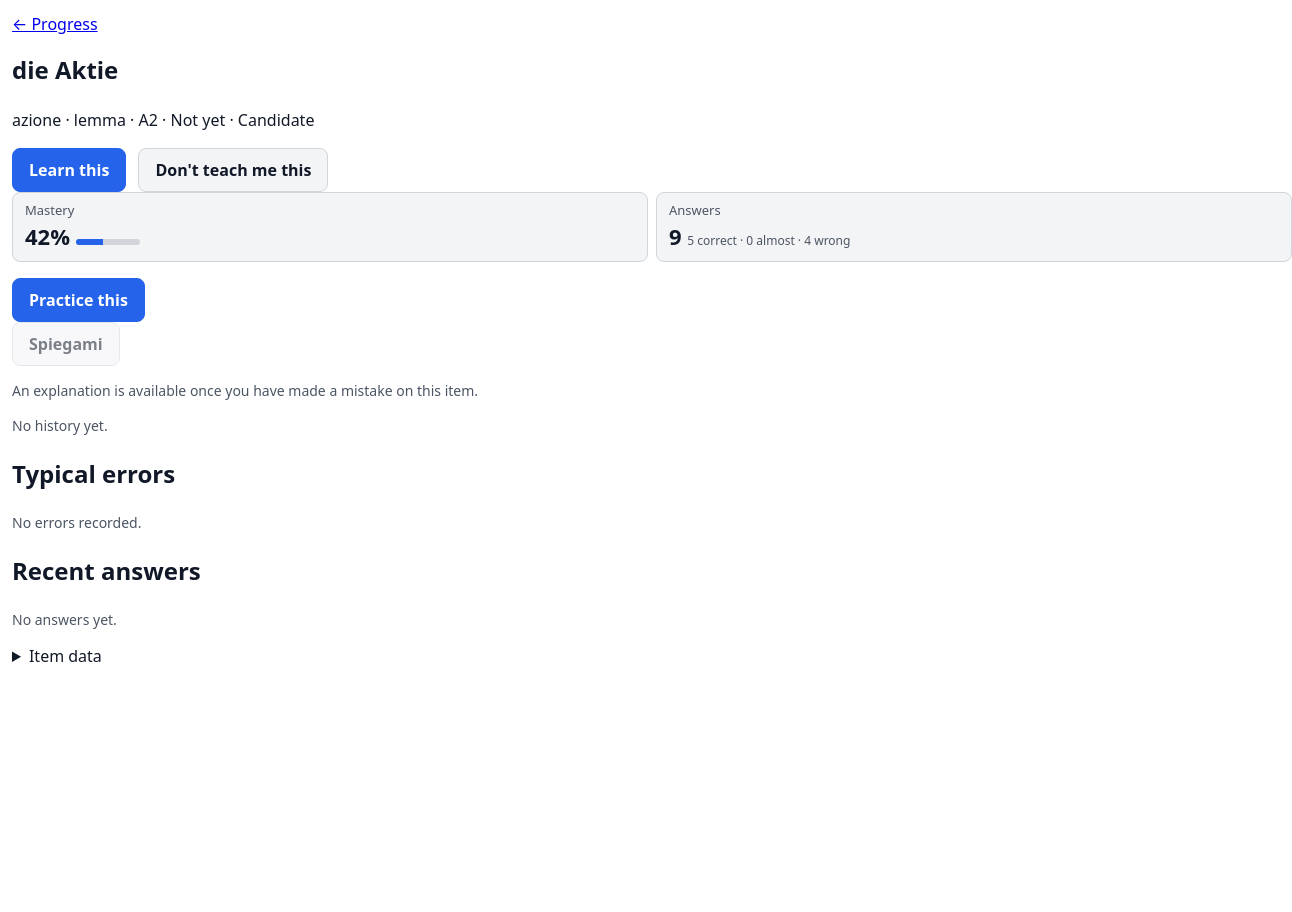
Test case: opt-in / opt-out › shows the server error when opt-out is refused
Click the button "Don't teach me this".
click(233, 170)  # box x1=138 y1=148 x2=328 y2=192
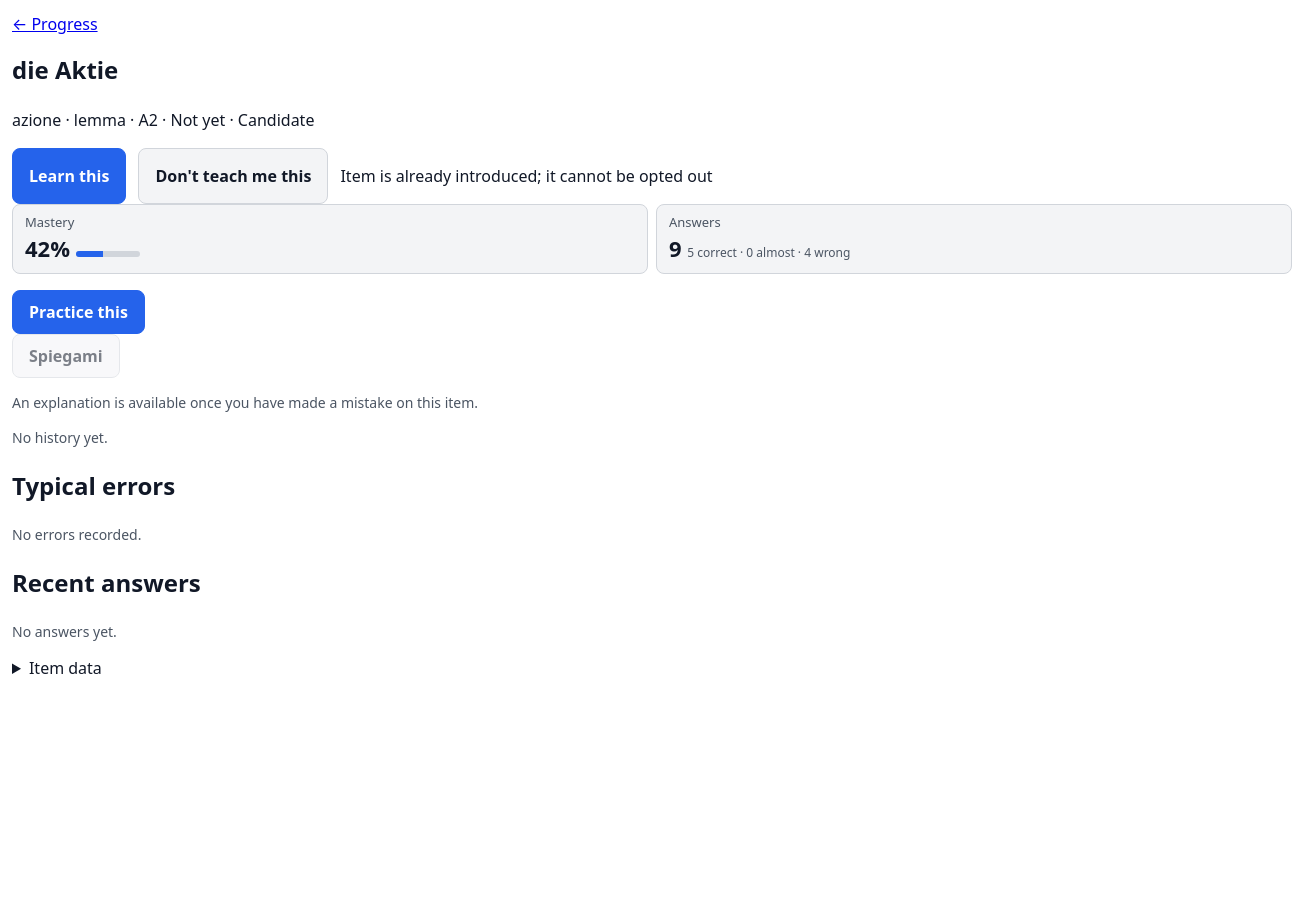
Now the message shows "already", box x1=340 y1=165 x2=712 y2=187
